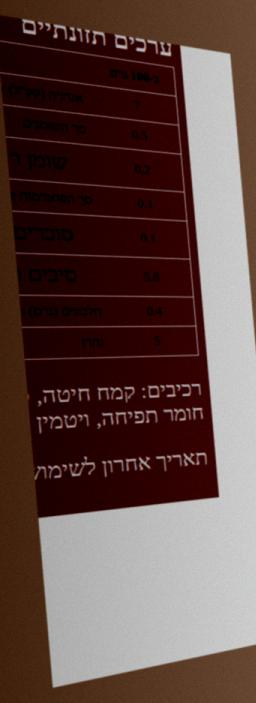carbs: (135, 195, 155, 212)
energy: (131, 97, 142, 114)
fat: (129, 126, 149, 144)
protein: (145, 303, 164, 319)
